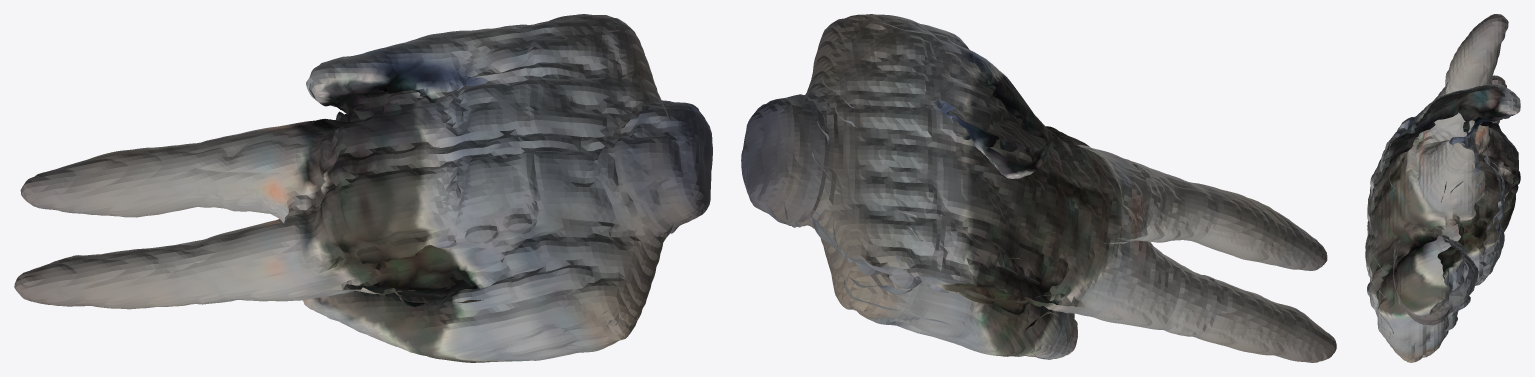
Rendered from back.glb.
3 views of the same model, side by side, from view 1: azimuth 30°, elevation 25°; view 2: azimuth 150°, elevation 25°; view 3: azimuth 270°, elevation 25° (orthographic). The views are drawn at different scales.
Parts seen in each view (by area): view 1: world; view 2: world; view 3: world.
Boxes of the visible parts, x1=… form: world: x1=14, y1=14, x2=712, y2=362; world: x1=741, y1=14, x2=1336, y2=362; world: x1=1365, y1=14, x2=1520, y2=362.
Bounding box in the file's own units: 0.9425 × 0.4417 × 0.2811.
